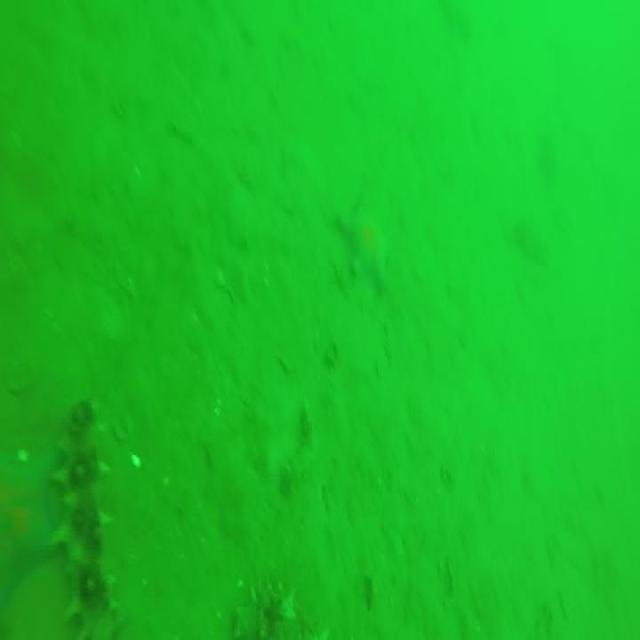holothurian: (47, 392, 118, 640), (232, 580, 333, 640)
starfish: (337, 198, 393, 286)
